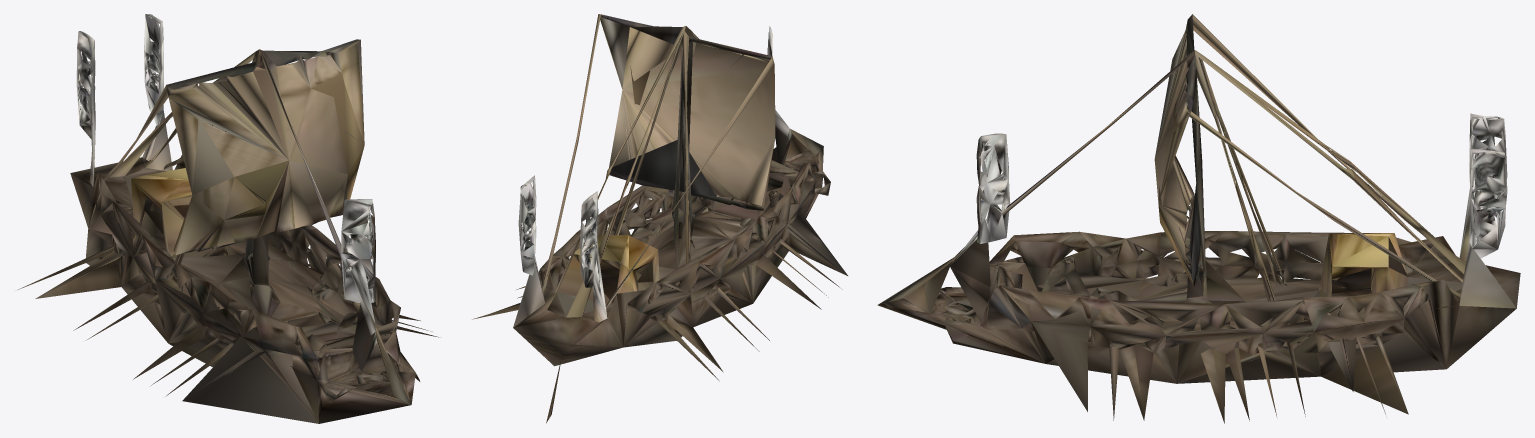
Rendered from sekibune_v2_lod2.glb.
3 renders of one model, left to right at view 1: azimuth 30°, elevation 25°; view 2: azimuth 150°, elevation 25°; view 3: azimuth 270°, elevation 25°, orthographic. The views are drawn at different scales.
Parts seen in each view (by area): view 1: tripo_node_8296add7-7248-4e58-8521-8ef38d7d1bdd; view 2: tripo_node_8296add7-7248-4e58-8521-8ef38d7d1bdd; view 3: tripo_node_8296add7-7248-4e58-8521-8ef38d7d1bdd.
Part boxes in pixels (left/top/right/bottom): tripo_node_8296add7-7248-4e58-8521-8ef38d7d1bdd: left=18, top=14, right=438, bottom=423; tripo_node_8296add7-7248-4e58-8521-8ef38d7d1bdd: left=472, top=14, right=847, bottom=423; tripo_node_8296add7-7248-4e58-8521-8ef38d7d1bdd: left=877, top=14, right=1520, bottom=423.
Bounding box in the file's own units: 0.4924 × 0.5441 × 0.9349.
Materials: 1 (1 with a texture image).
